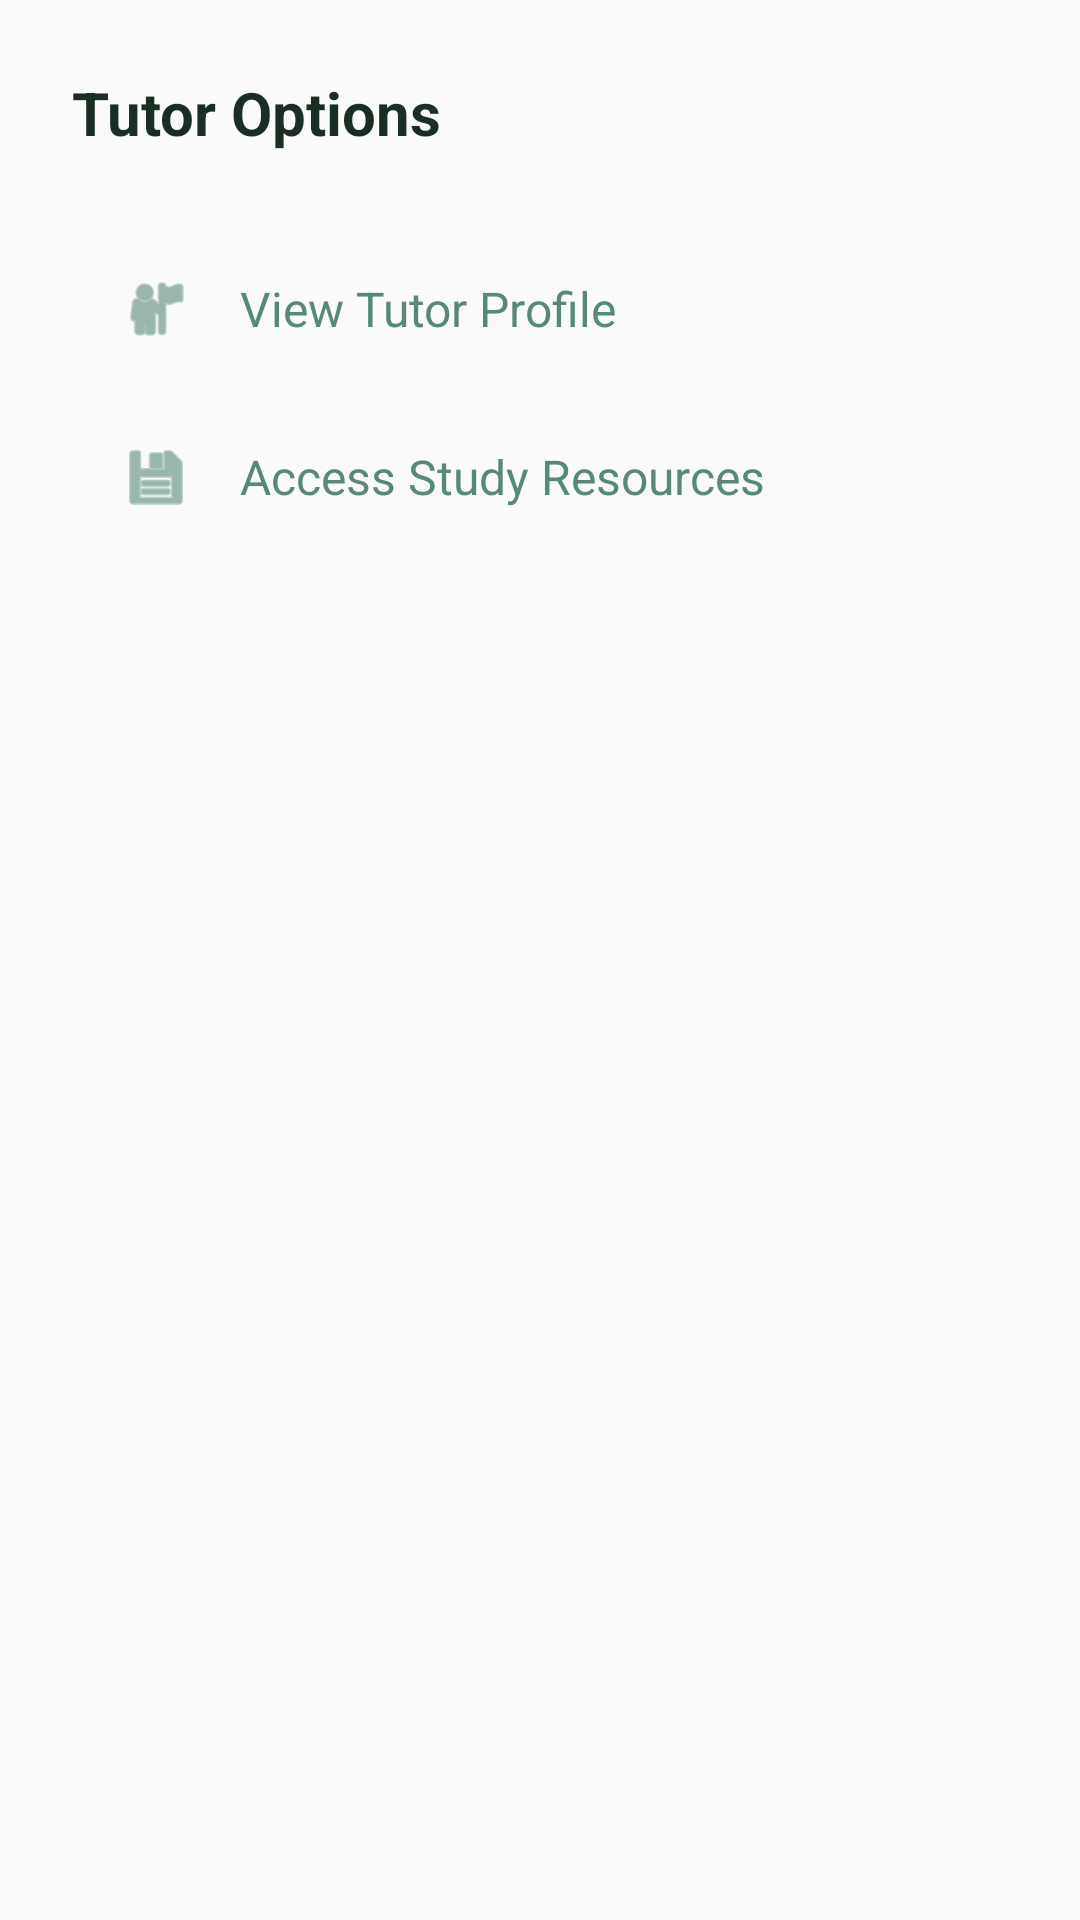

Screen size 1080 x 1920. Icon name, then its center in pixels as point (x, y):
save: point (156, 477)
